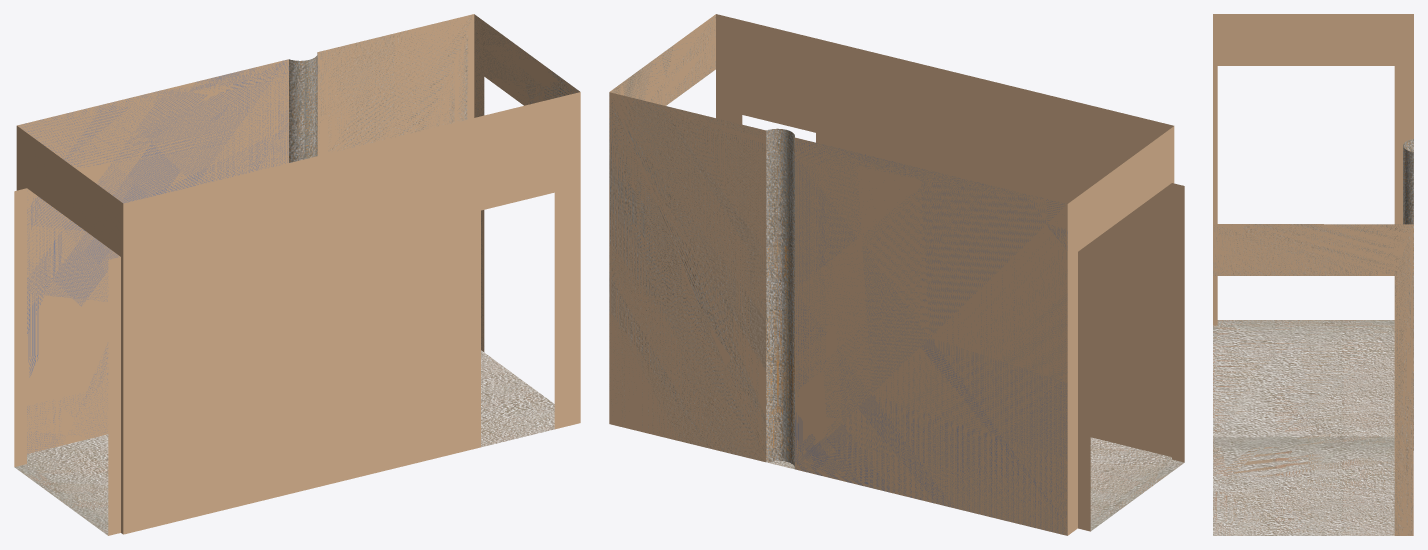
File: COM024.obj
The picture shows the model from 3 angles, left to right: view 1: azimuth 30°, elevation 25°; view 2: azimuth 150°, elevation 25°; view 3: azimuth 270°, elevation 25°; orthographic projection. The views are drawn at different scales.
Visible parts, largest first — view 1: Mesh1 COM024 Model; view 2: Mesh1 COM024 Model; view 3: Mesh1 COM024 Model.
Boxes of the visible parts, x1,y1,x2,y2 form: Mesh1 COM024 Model: [14, 14, 580, 535]; Mesh1 COM024 Model: [609, 14, 1184, 535]; Mesh1 COM024 Model: [1213, 14, 1413, 535].
Bounding box in the file's own units: 5.35 × 3.6 × 2.1.
Materials: 5 (2 with a texture image).
